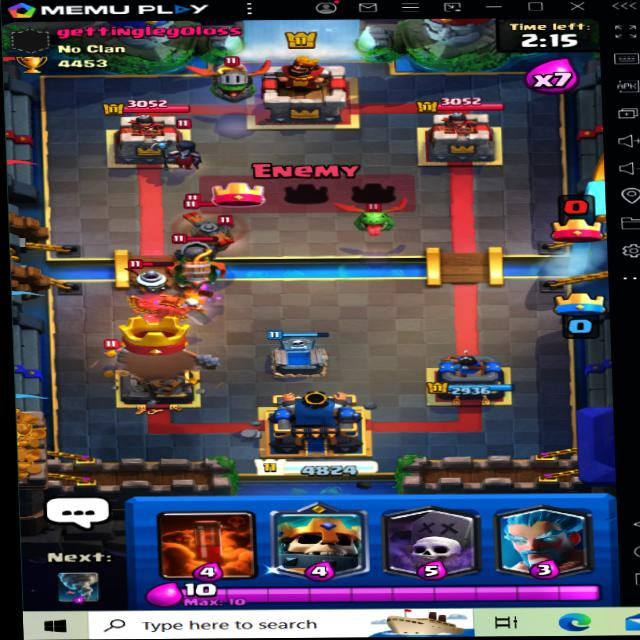baby-dragon: (336, 196, 413, 239)
bats: (212, 210, 254, 234)
flying-machine: (171, 204, 244, 262)
inferno-dragon: (163, 233, 256, 285), (198, 53, 268, 102)
mini-pekka: (101, 338, 157, 370)
night-witch: (162, 120, 211, 174)
zappie: (128, 261, 179, 291)
